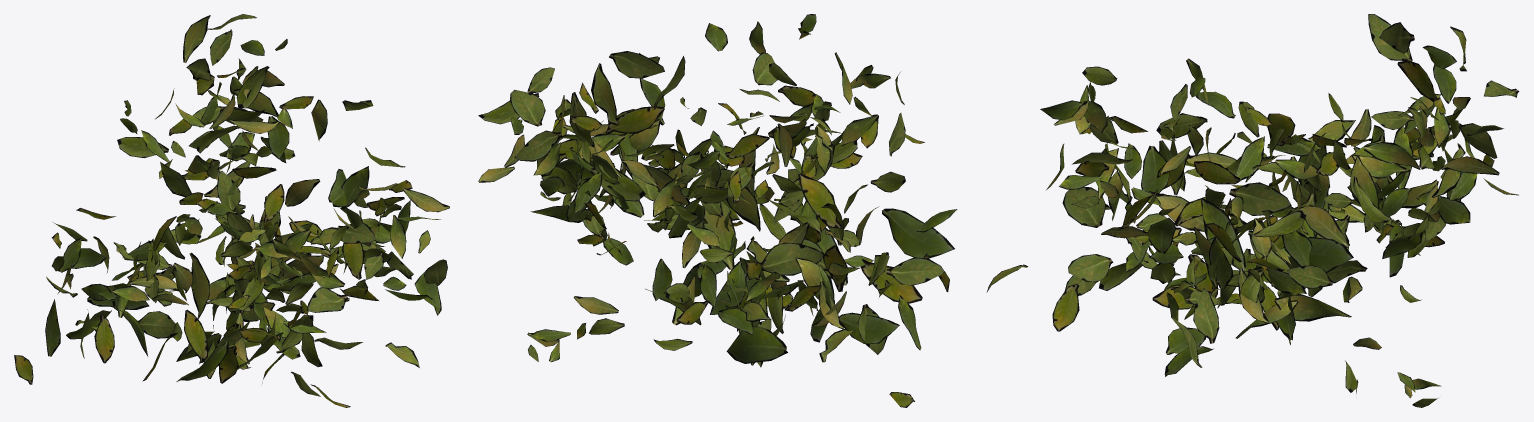
Rendered from island_tree_01_L1_hojas.glb.
3 views of the same model, side by side, from view 1: azimuth 30°, elevation 25°; view 2: azimuth 150°, elevation 25°; view 3: azimuth 270°, elevation 25° (orthographic). The views are drawn at different scales.
Visible parts, largest first — view 1: island_tree_01_LOD0; view 2: island_tree_01_LOD0; view 3: island_tree_01_LOD0.
Part boxes in pixels (box(x1,y1,x2,y2)): island_tree_01_LOD0: box(14, 14, 449, 407); island_tree_01_LOD0: box(478, 14, 957, 407); island_tree_01_LOD0: box(986, 14, 1519, 407).
Bounding box in the file's own units: 4.45 × 3.48 × 4.71.
1 material, 1 textured.
